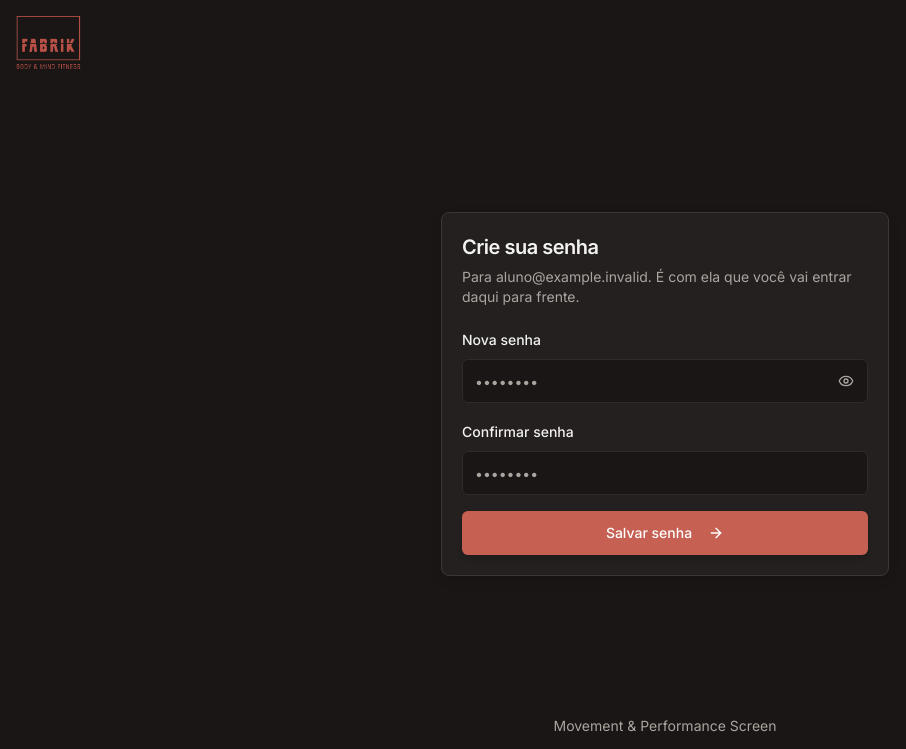
Test: SetPassword › senha curta: não salva
Type "curta1" into the password field labelled "Nova senha" at (665, 381), box [462, 359, 868, 403]
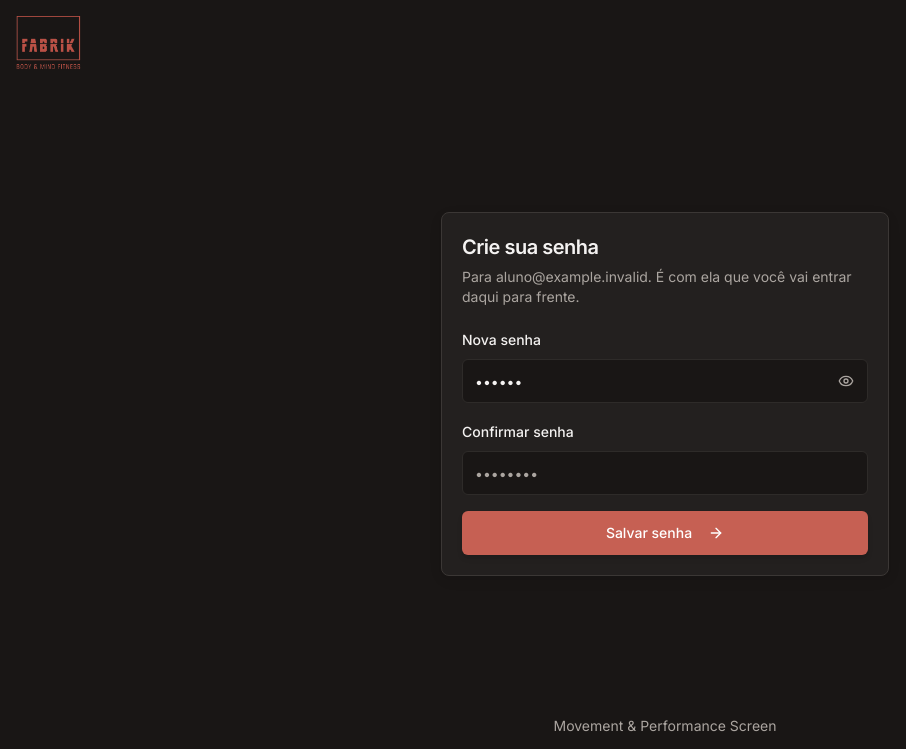
Type "curta1" into the password field labelled "Confirmar senha" at (665, 473), box [462, 451, 868, 495]
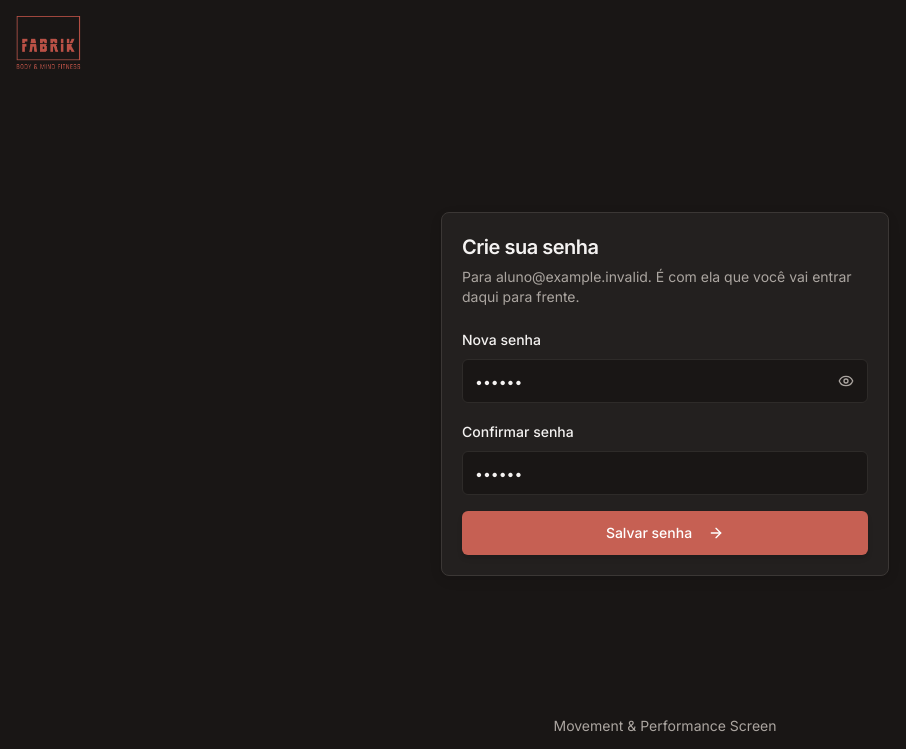
Click the button "Salvar senha" at (665, 533), box [462, 511, 868, 555]
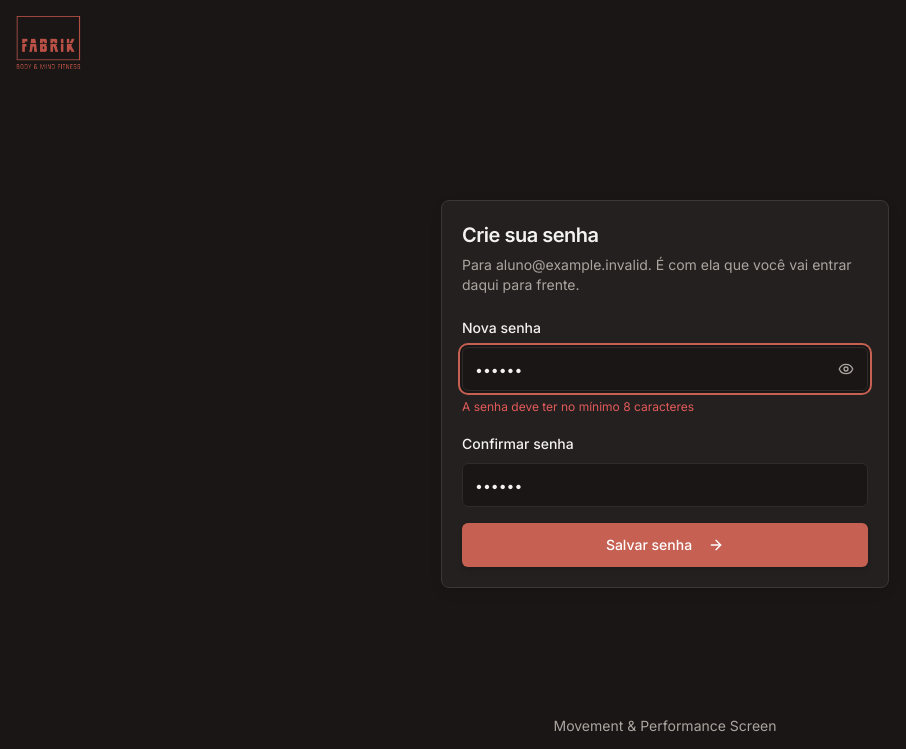
Expected: the text "A senha deve ter no mínimo 8 caracteres" is shown, [462, 399, 694, 414]
